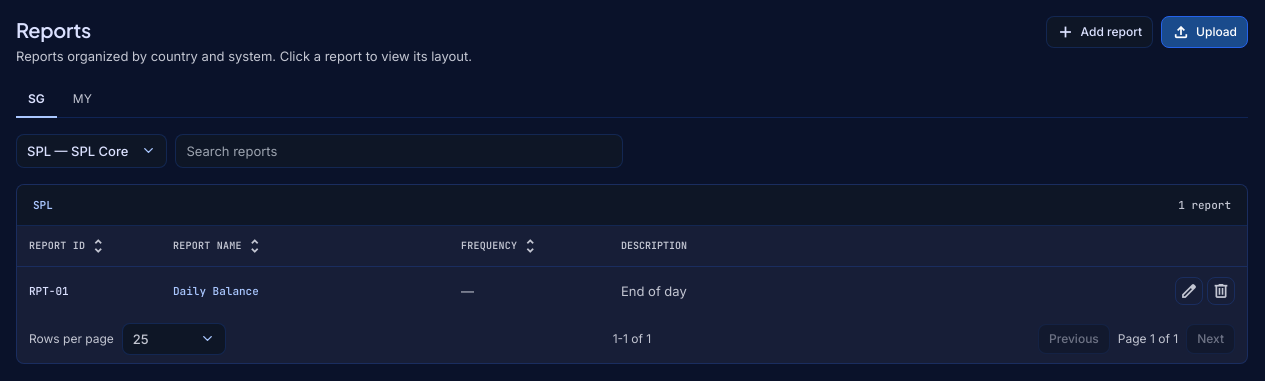
Test: filters reports by country and search
The image size is (1265, 381).
Expected: the button "Daily Balance" is shown, x1=173 y1=283 x2=259 y2=299
Expected: the tab "SG" is shown, x1=16 y1=82 x2=57 y2=118
Click the tab "MY".
click(82, 100)  # box x1=61 y1=82 x2=104 y2=118
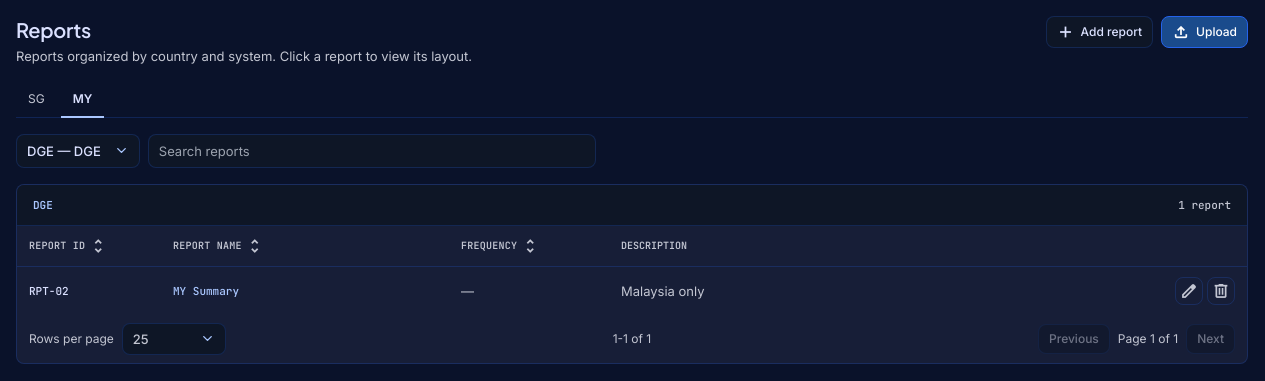
Expected: the button "MY Summary" is shown, x1=173 y1=283 x2=239 y2=299
Expected: the button "Daily Balance" is gone
Click the tab "SG".
click(36, 100)  # box x1=16 y1=82 x2=57 y2=118
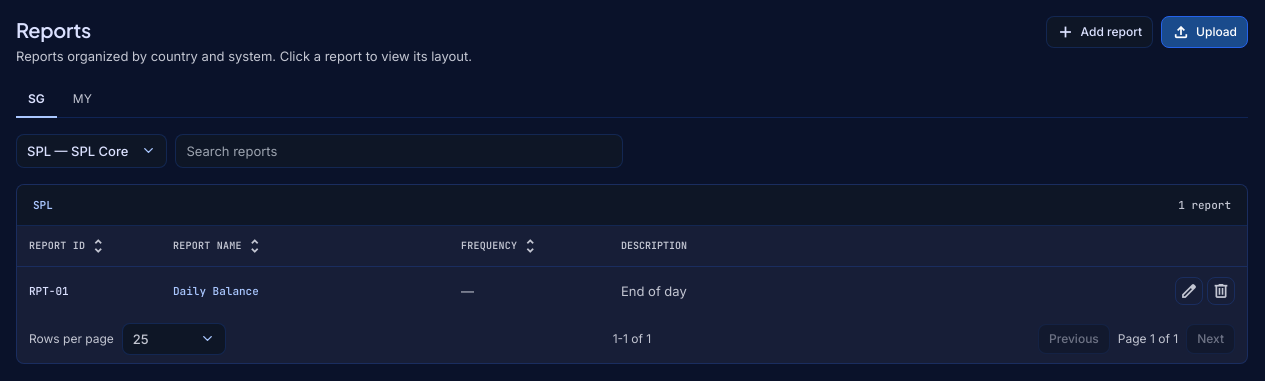
Expected: the button "Daily Balance" is shown, x1=173 y1=283 x2=259 y2=299
Type "Balance" into the search field labelled "Search reports".
click(399, 151); type("Balance")  # box x1=175 y1=134 x2=623 y2=168
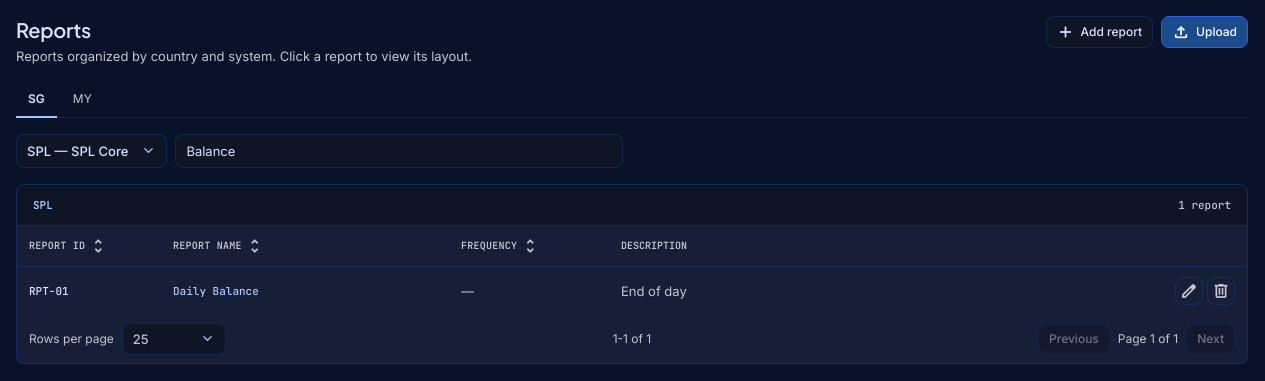
Expected: the button "Daily Balance" is shown, x1=173 y1=283 x2=259 y2=299
Replace the text in the search field named "Search reports" with "zzzz" at (399, 151), box x1=175 y1=134 x2=623 y2=168
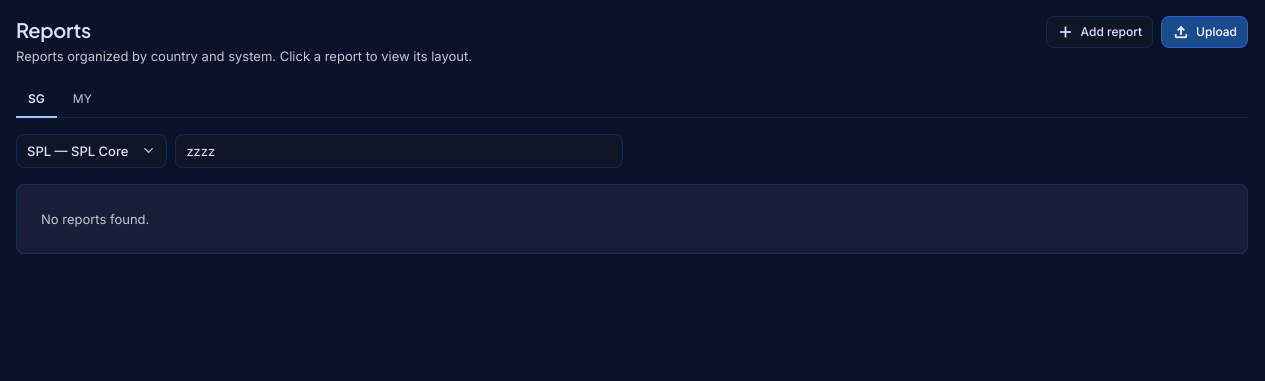
Expected: the button "Daily Balance" is gone
